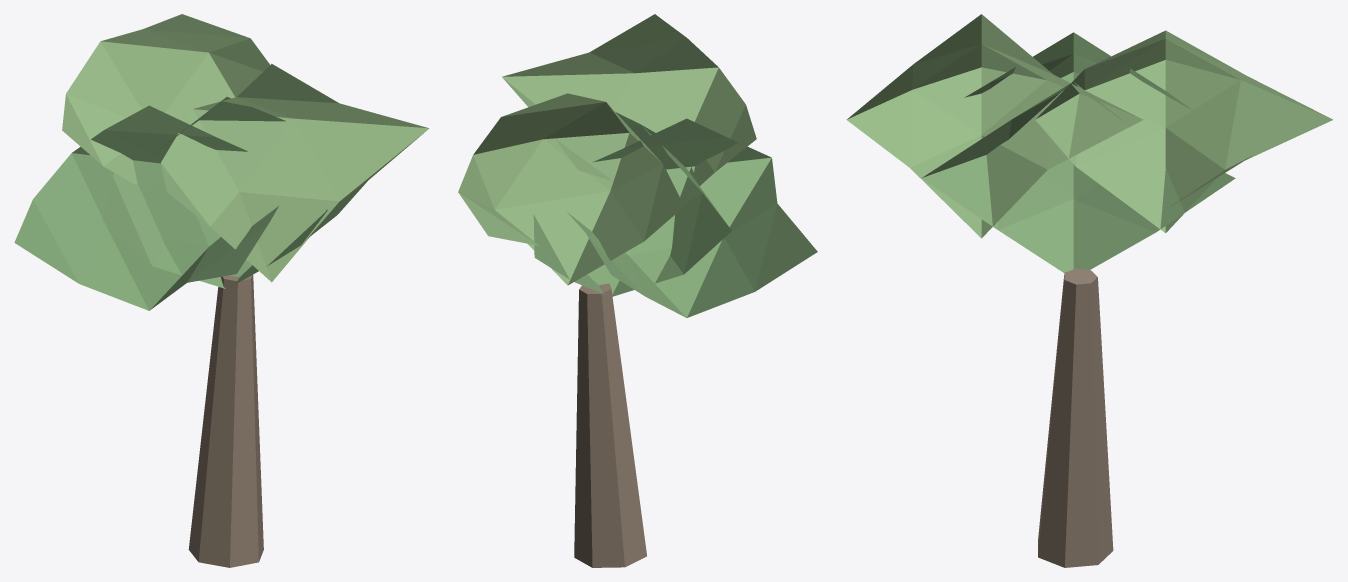
The model's file is broadleaf_v27.glb.
3 renders of one model, left to right at view 1: azimuth 30°, elevation 25°; view 2: azimuth 150°, elevation 25°; view 3: azimuth 270°, elevation 25°, orthographic. The views are drawn at different scales.
Parts seen in each view (by area): view 1: lod0; view 2: lod0; view 3: lod0.
Boxes of the visible parts, x1=… form: lod0: x1=14, y1=14, x2=428, y2=567; lod0: x1=458, y1=14, x2=817, y2=567; lod0: x1=846, y1=14, x2=1332, y2=567.
Size of what is drawn, in the model's own units: 3.98 by 5.38 by 4.42.
